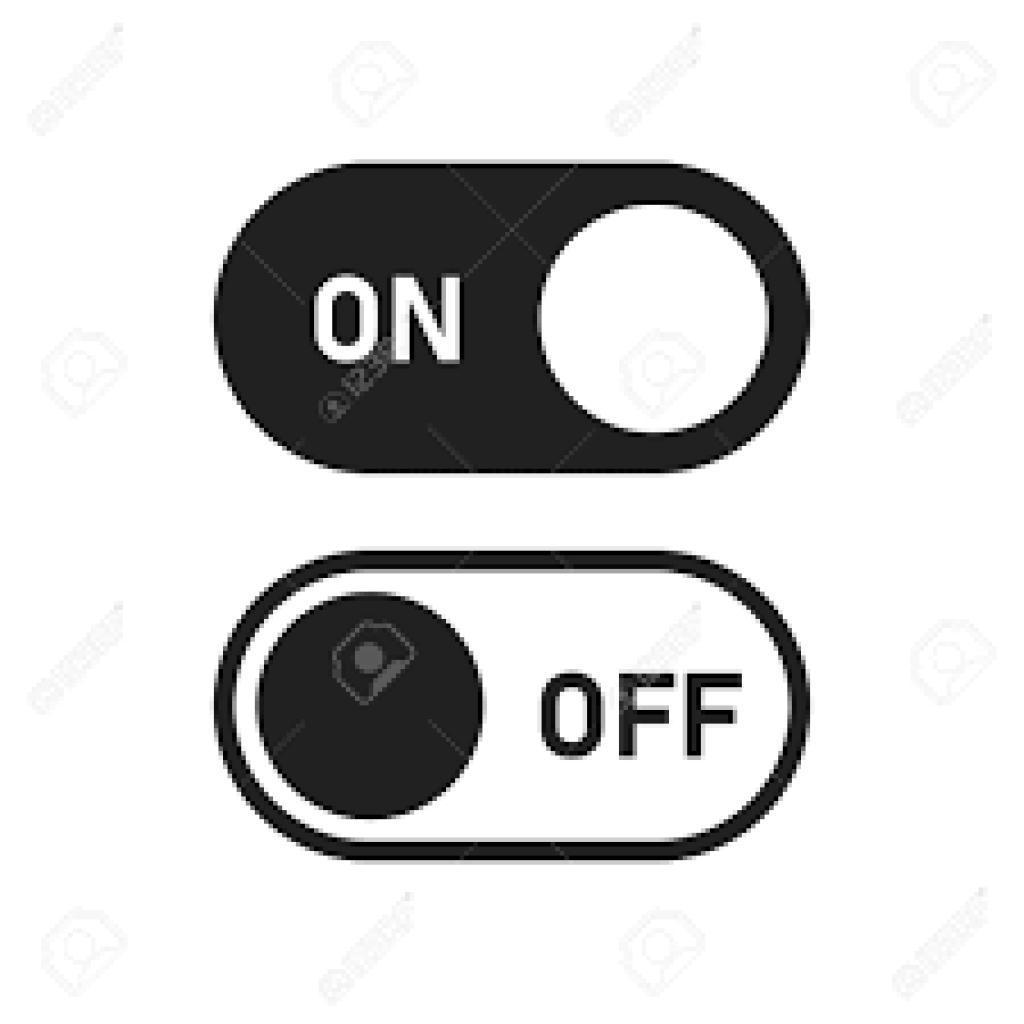switch: (213, 167, 813, 474), (215, 550, 808, 858)
